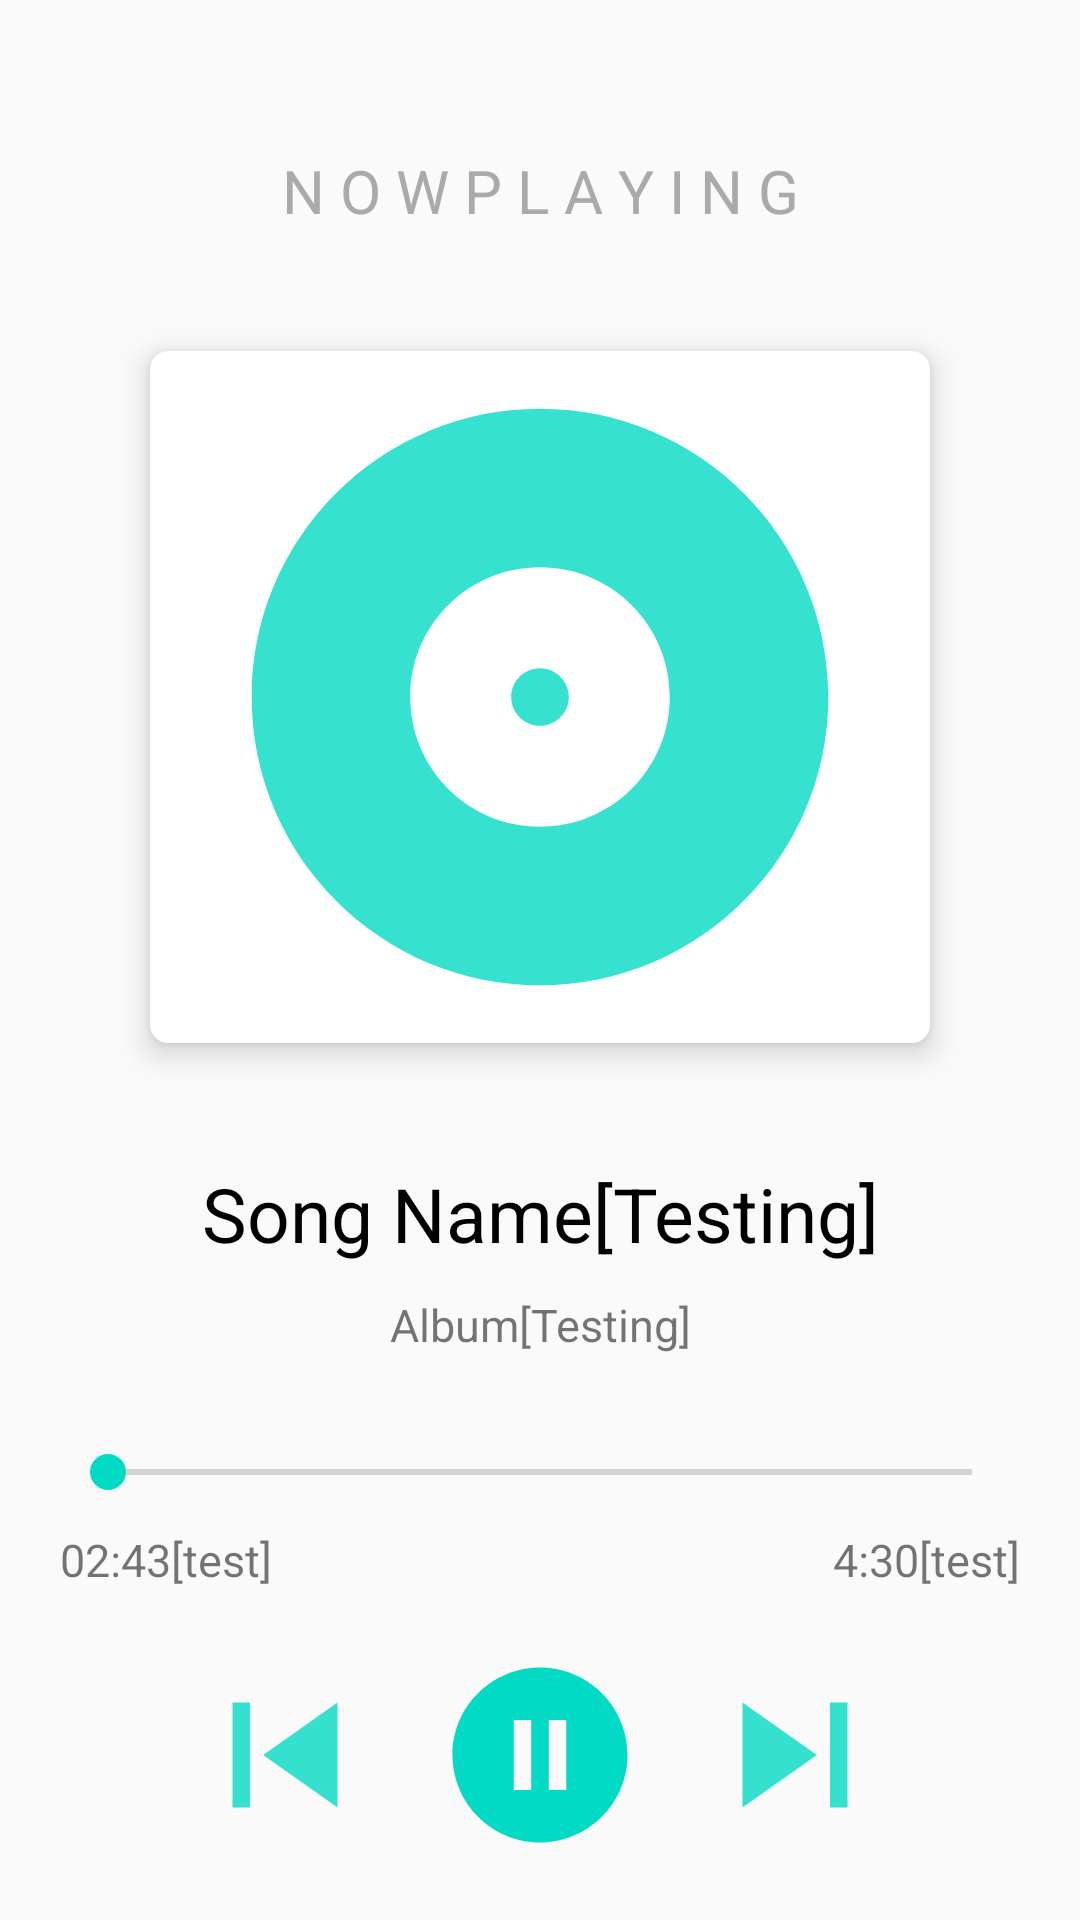

Named icons in this screenshot (1080*1920) and their bounding boxes, (x1, y1, x2, y2):
Play or Pause control button: (452, 1667, 628, 1843)
Skip to next control button: (742, 1702, 848, 1808)
Skip to previous control button: (232, 1702, 338, 1808)
